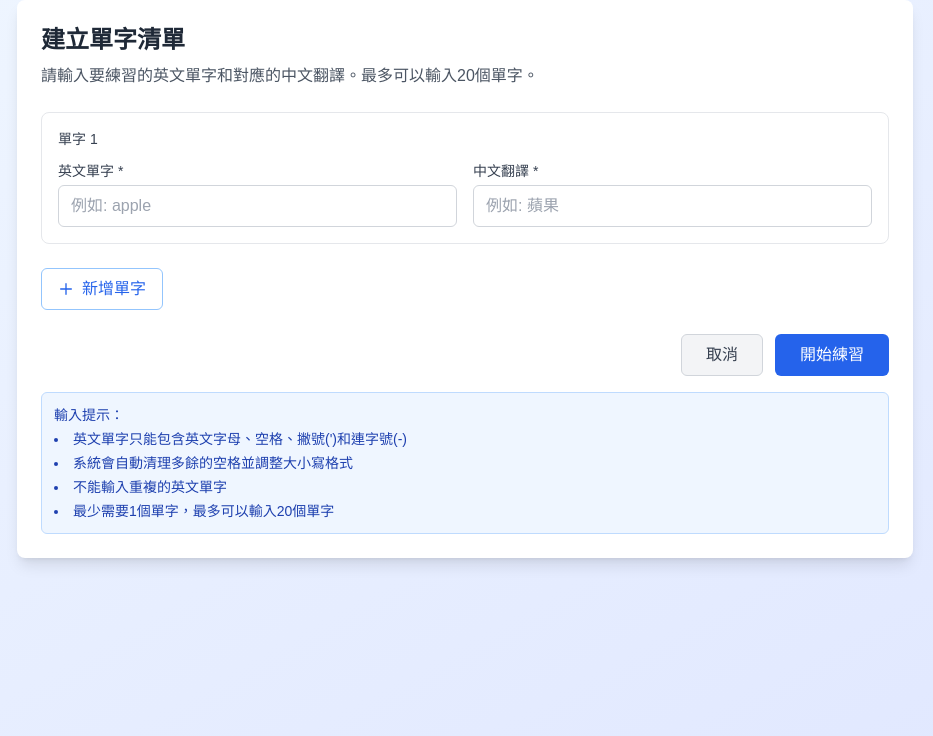
Test case: WordListInput › allows removing word inputs when more than one exists
// Add a second word input
Click the button "新增單字" at (102, 289), box [41,268,163,310]
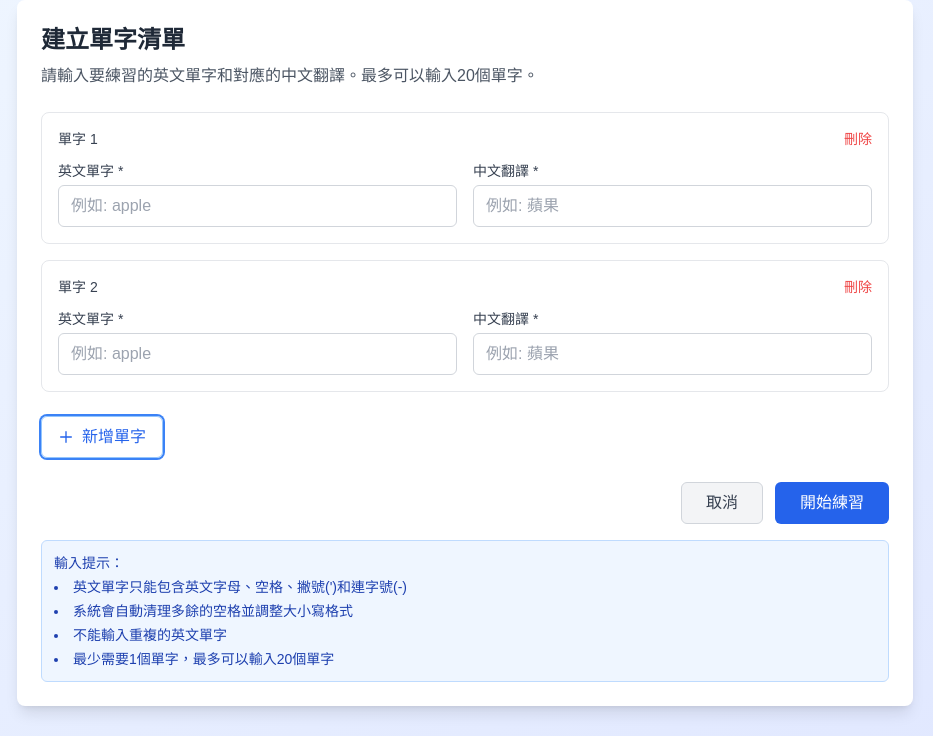
// Remove the second word input
Click the 2nd button "刪除" at (858, 287), box [844,277,872,297]
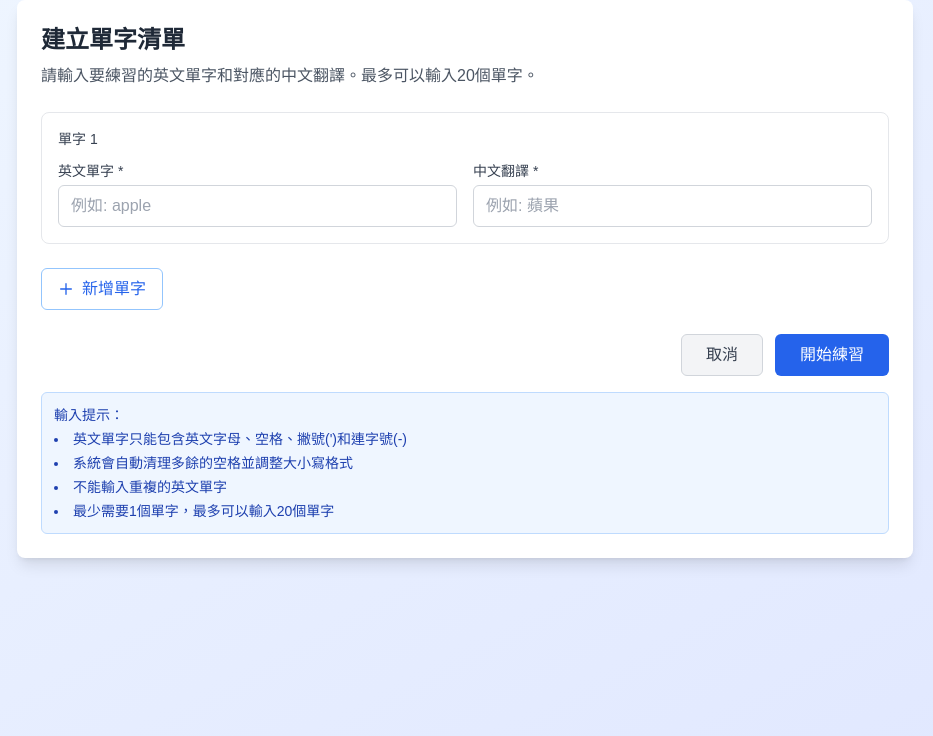
expect the text "單字 2" is gone: met
